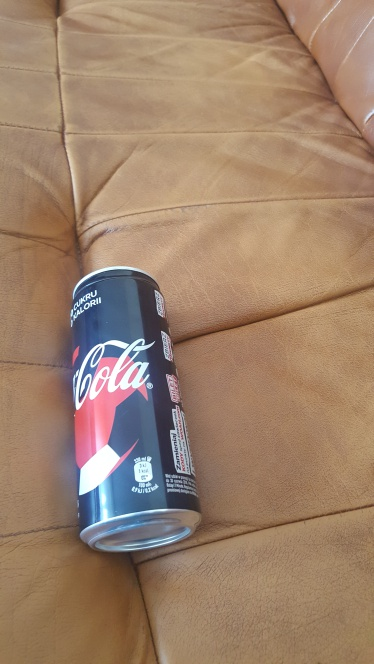colazero: (57, 261, 206, 562)
